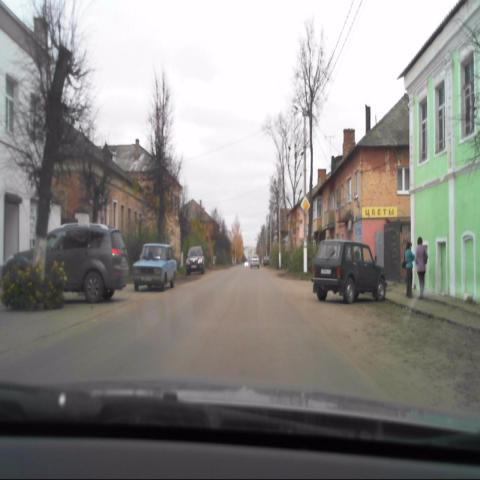2_1: (300, 197, 310, 214)
